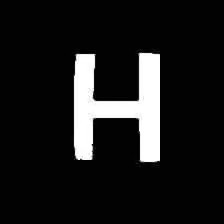LTR_H: (65, 40, 167, 165)
